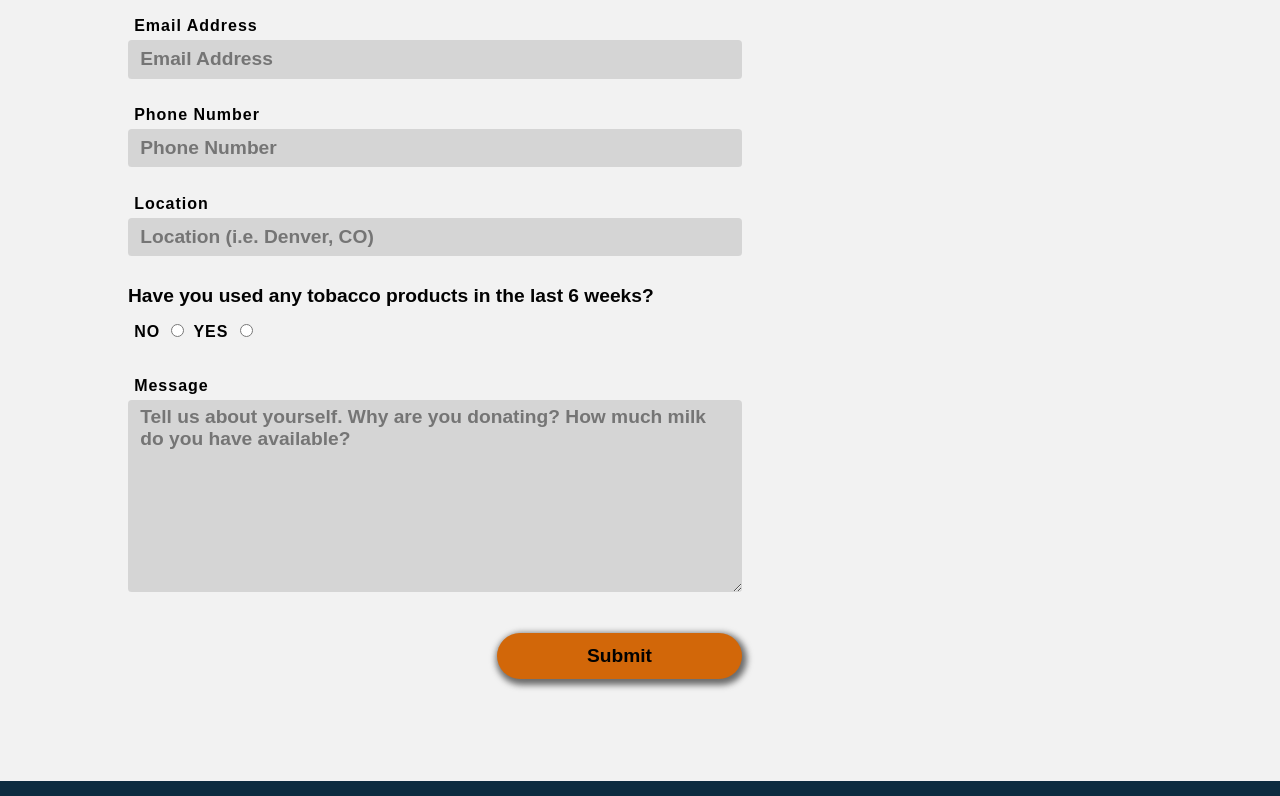
Scenario: Donate milk form user flow › Should not have visible bio error message after correcting
The width and height of the screenshot is (1280, 796).
(page scrolled)
Click the button with test id "donate-submit-button": (620, 656) [497,632,743,679]
(page scrolled)
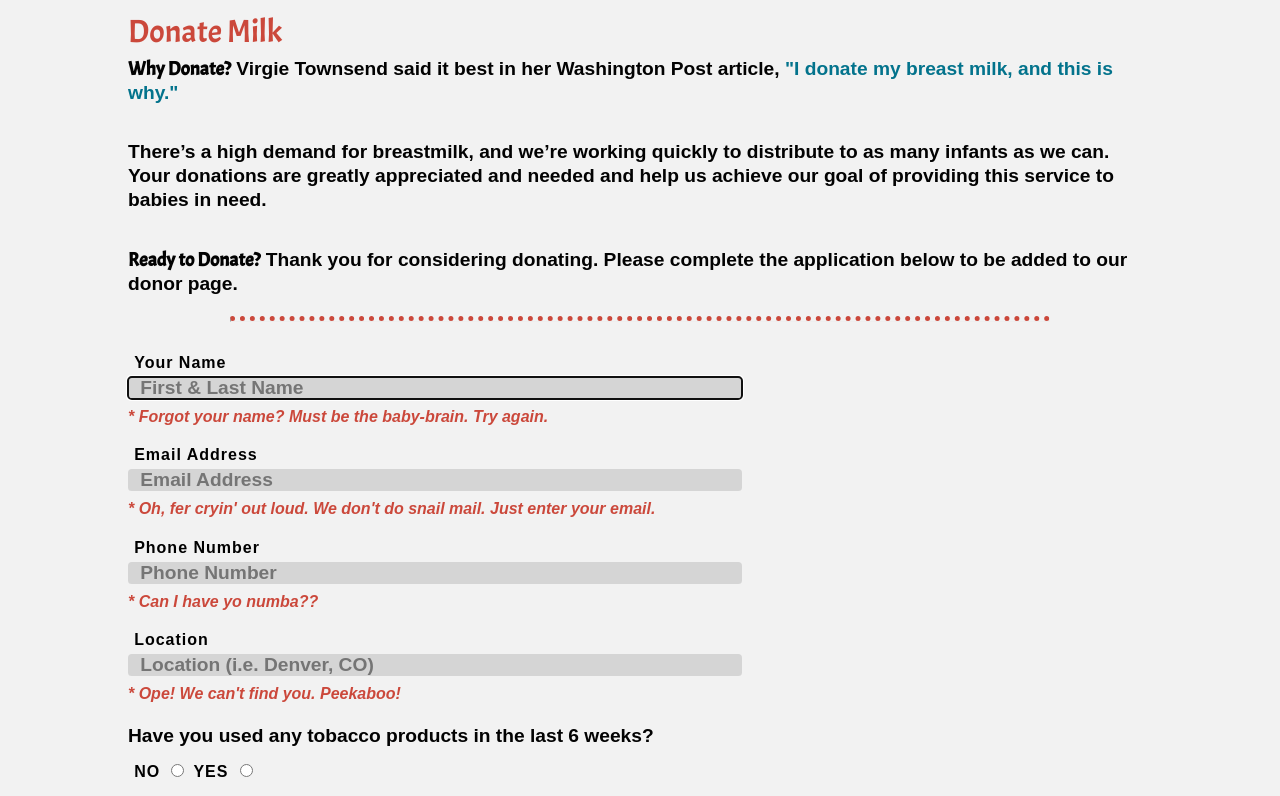
Scroll
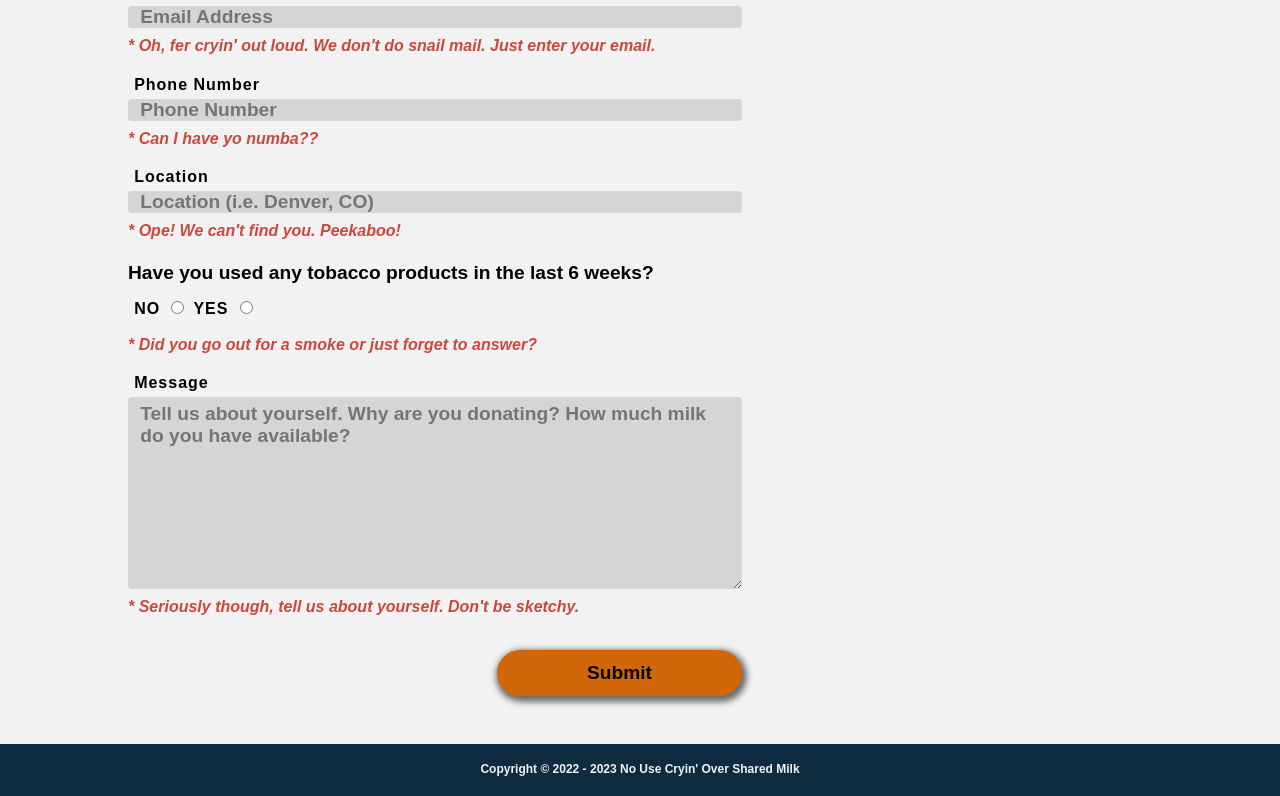
In the text box with test id "donor-bio-input": (435, 493) [128,397,742,589], type "I have extra to share"
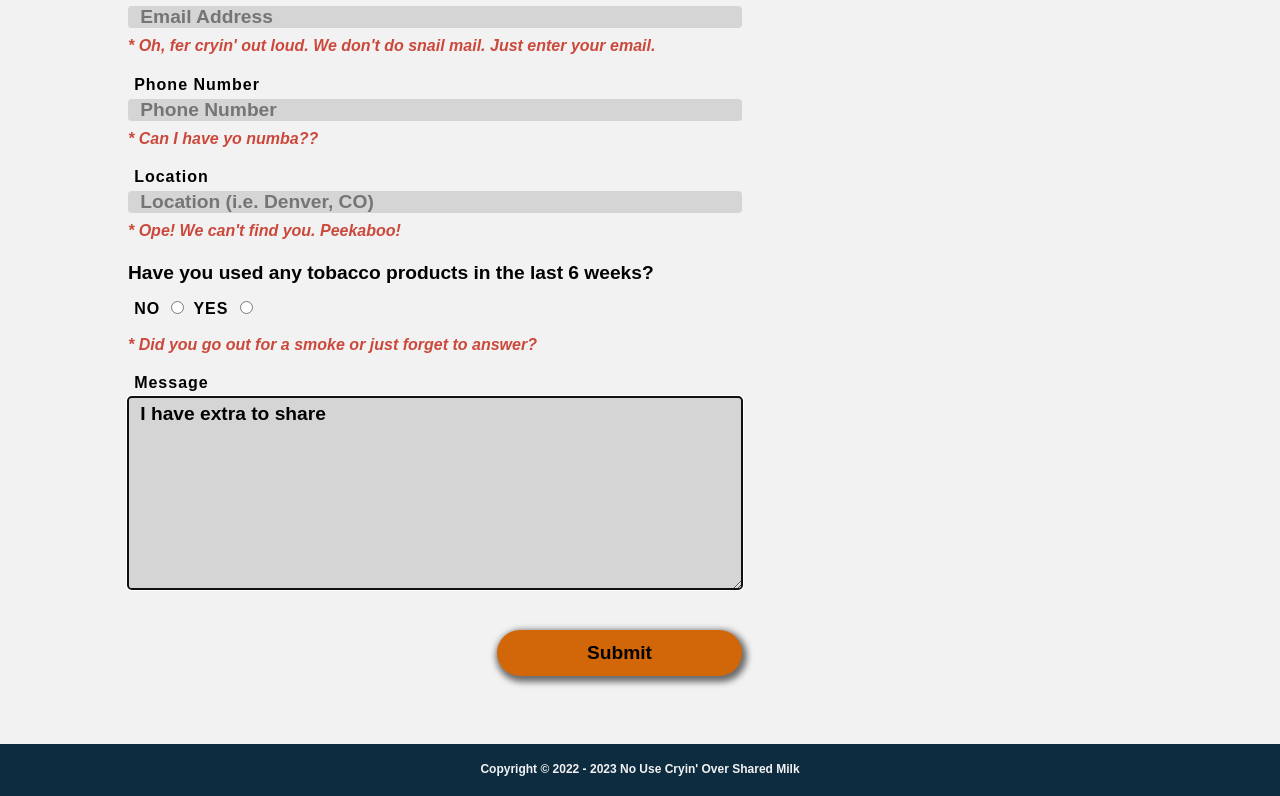
Expected: the text with test id "donor-bio-error" is gone
